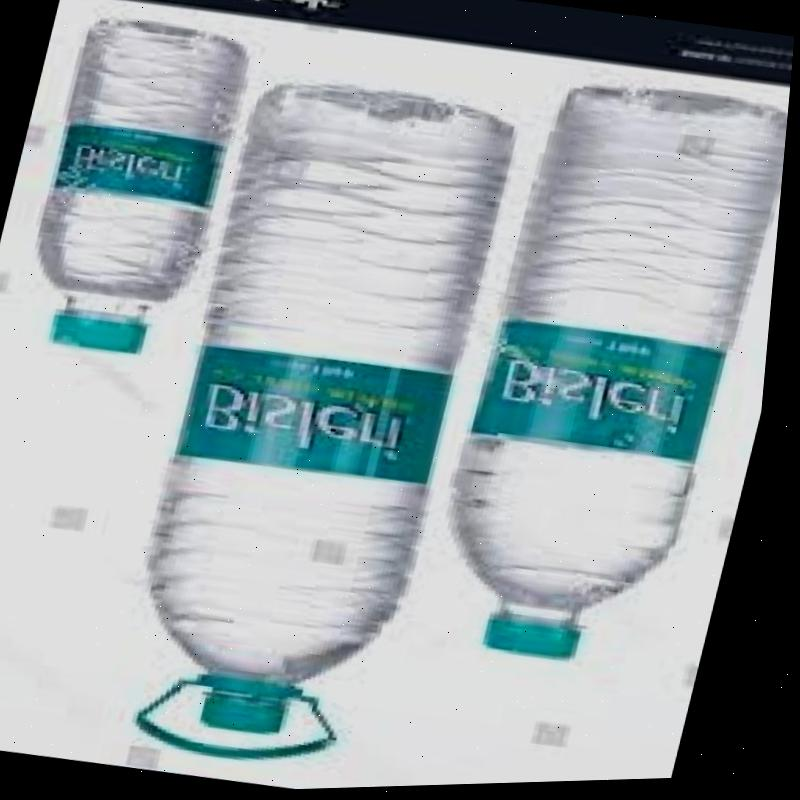botella: (107, 67, 537, 755), (419, 69, 794, 681), (18, 8, 259, 363)
